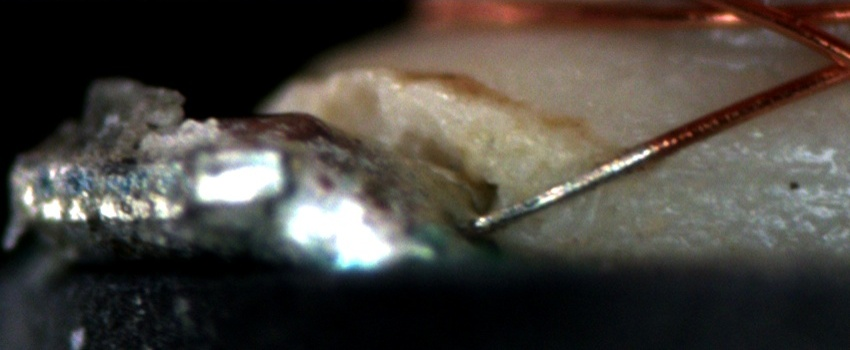CL: (801, 30, 849, 91)
DL: (629, 143, 850, 207)
TS: (473, 142, 654, 230)
